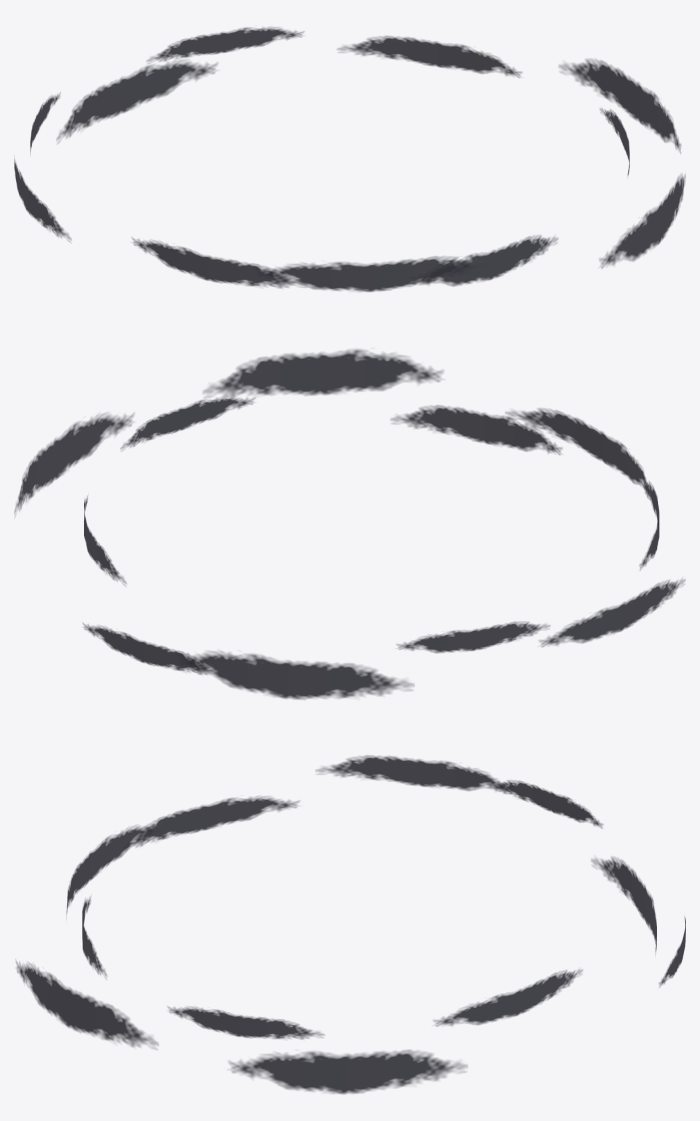
Rendered from mn_clouds.glb.
The picture shows the model from 3 angles, top to bottom: view 1: azimuth 30°, elevation 25°; view 2: azimuth 150°, elevation 25°; view 3: azimuth 270°, elevation 25°; orthographic projection. The views are drawn at different scales.
Visible parts, largest first — view 1: mn_clouds; view 2: mn_clouds; view 3: mn_clouds.
Boxes of the visible parts, x1,y1,x2,y2 form: mn_clouds: [14, 26, 685, 291]; mn_clouds: [14, 349, 685, 699]; mn_clouds: [16, 755, 685, 1094].
Size of the model in its own units: 254 by 36.01 by 251.
Materials: 1 (1 with a texture image).
